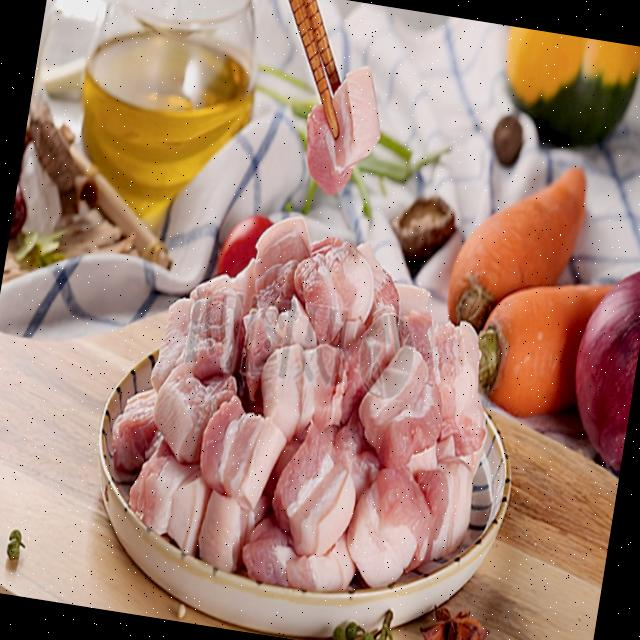meat: (109, 228, 523, 605)
